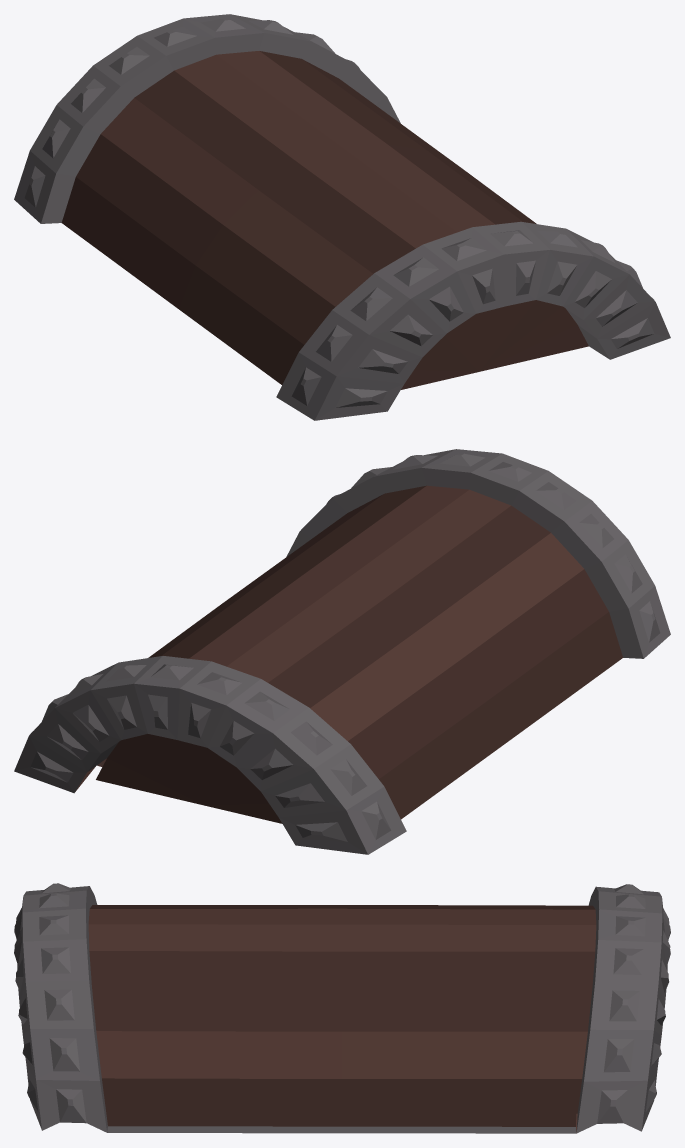
Rendered from bauParteDeCima.fbx.
3 renders of one model, top to bottom at view 1: azimuth 30°, elevation 25°; view 2: azimuth 150°, elevation 25°; view 3: azimuth 270°, elevation 25°, orthographic.
Visible parts, largest first — view 1: tampabau.001; view 2: tampabau.001; view 3: tampabau.001.
Part boxes in pixels (x1,y1,x2,y2): tampabau.001: (14, 14, 670, 420); tampabau.001: (14, 449, 670, 854); tampabau.001: (14, 883, 670, 1133).
Bounding box in the file's own units: 58.38 × 22.32 × 90.82.
